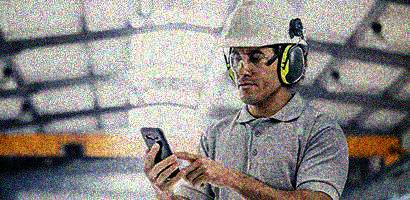helmet: (220, 1, 309, 105)
